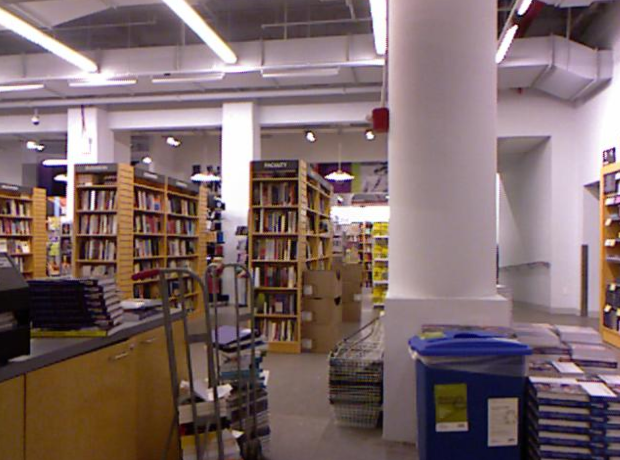cabinetDoor: (95, 350, 130, 457), (138, 334, 166, 441)
pole: (388, 0, 498, 323), (222, 104, 246, 255), (67, 108, 115, 163)
